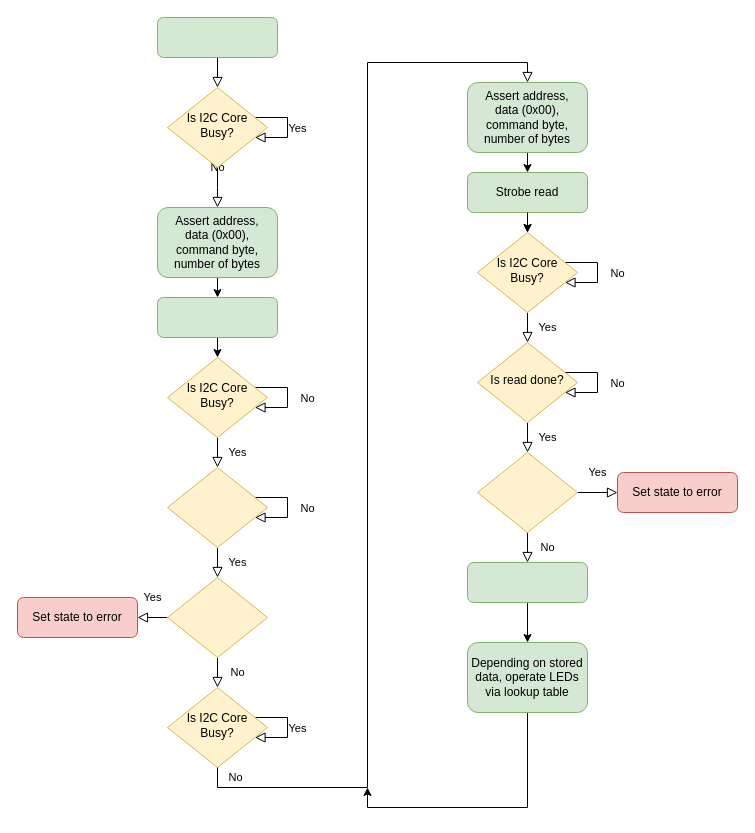
The diagram is 755 pixels wide and 833 high, and some of its shapes have lost their labels. The shapes that lost their labels are listed below. From the top down, each one's box as (x1, y1, x2, y2) in pixels, then its label:
(156, 16, 278, 58): Reset
(156, 296, 278, 338): Strobe write
(166, 466, 268, 548): Is write done?
(476, 452, 578, 532): Is there ack or rx error?
(466, 562, 588, 602): Store incoming data into register
(166, 576, 268, 658): Is there no ack or rx error?
